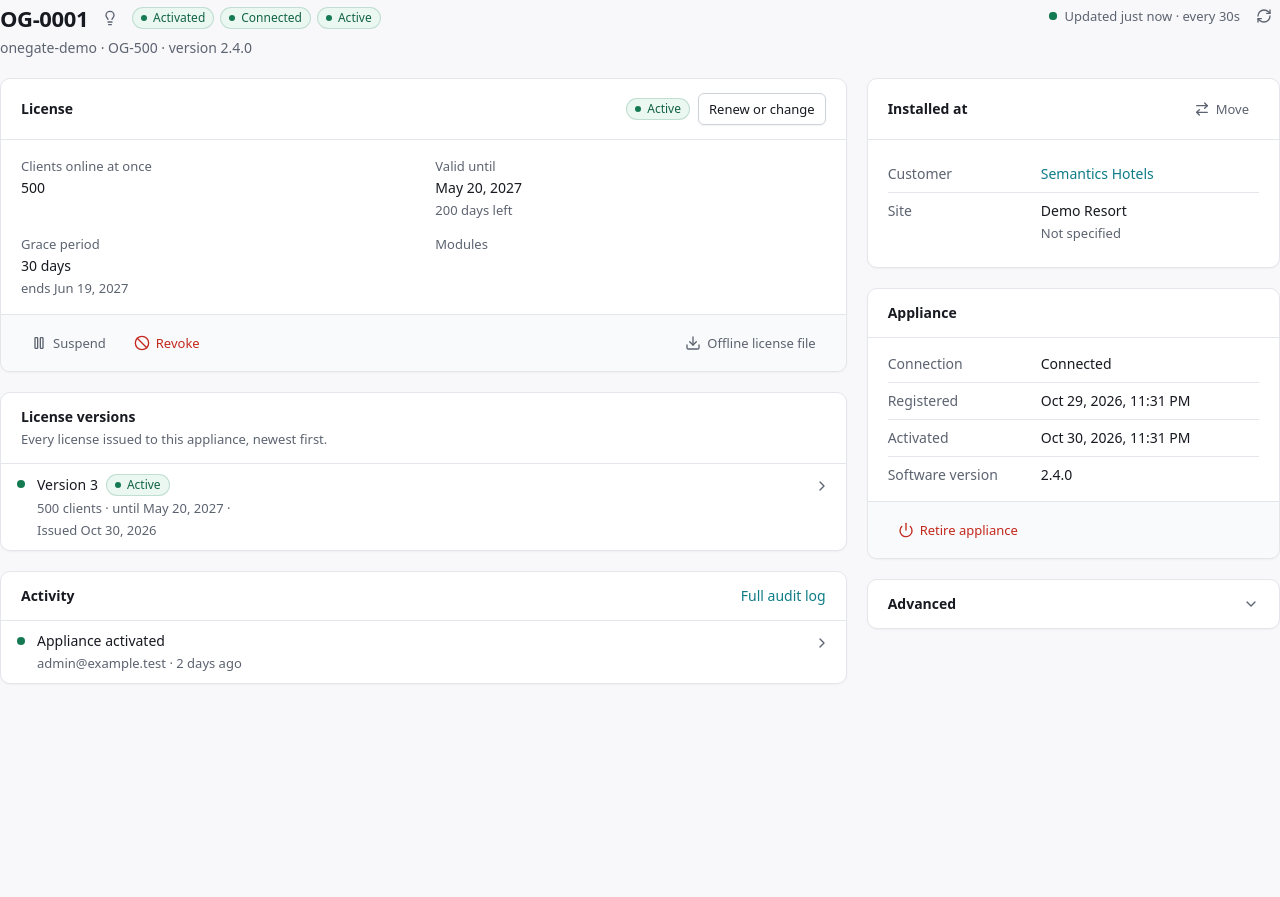
it: Retirement and replacement › Mark for replacement describes the acknowledged retirement, not an instant cut-off
Expected: the heading "License" is shown, [21,99,73,119]
Click the heading "Advanced" at (922, 604), box [888,594,1259,613]
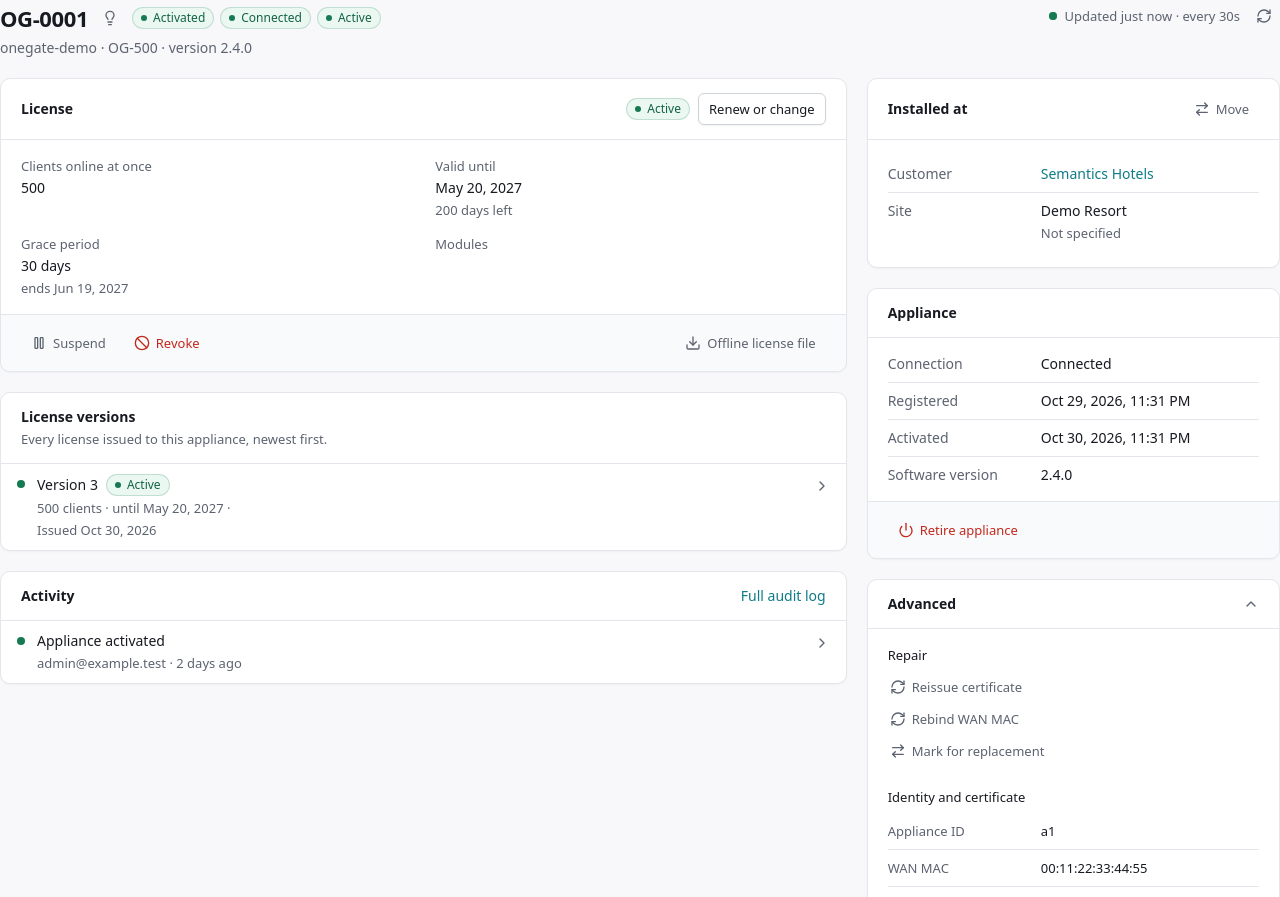
Click the button "Mark for replacement" at (967, 751), box [880,735,1054,767]
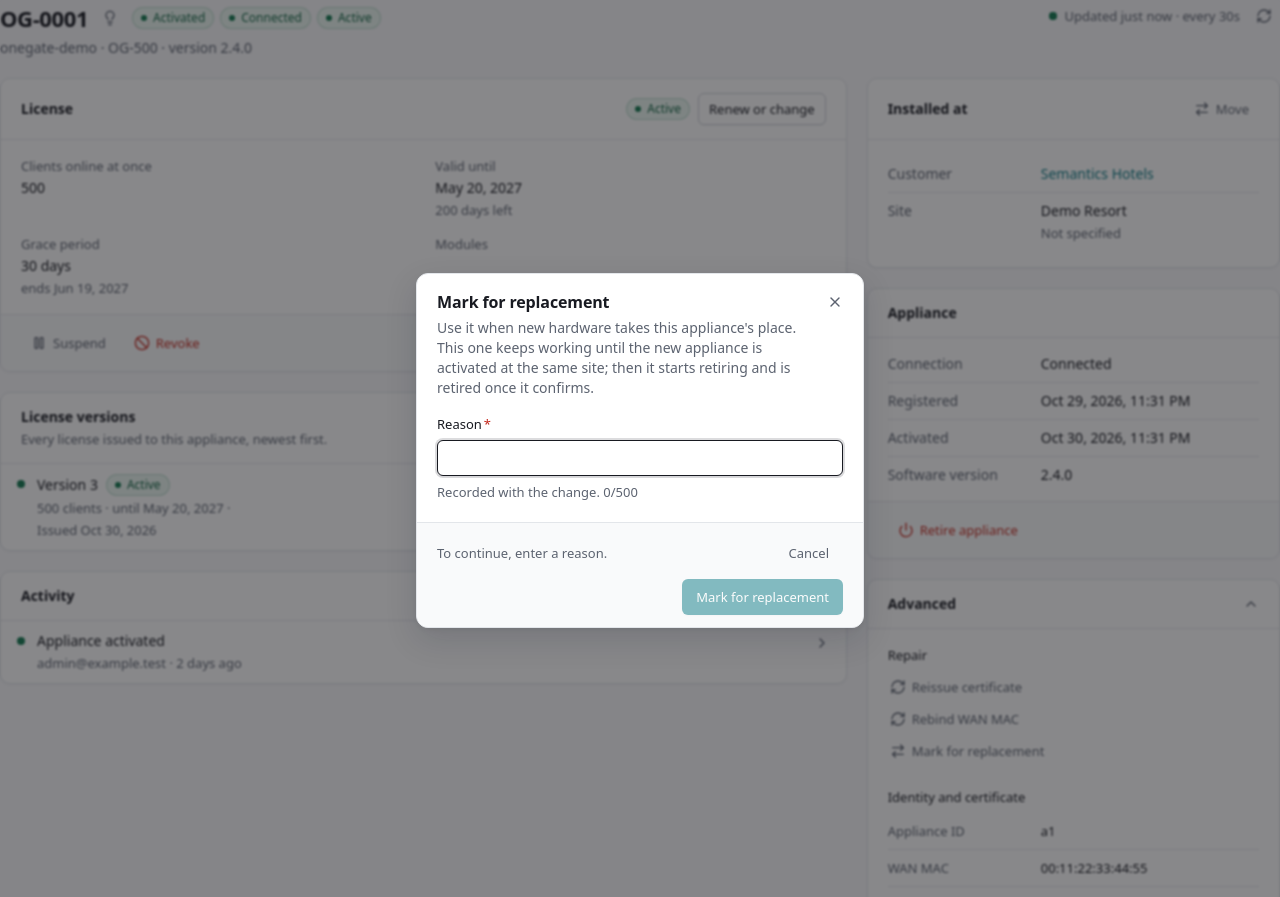
Expected: the text "retired once it confirms" is shown, [437,318,796,396]
